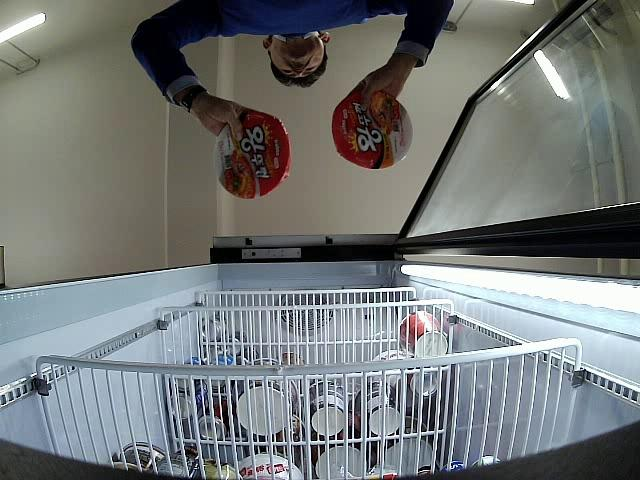00_hand: (194, 94, 250, 142), (355, 65, 412, 107)
10_wangTtukkeong: (212, 111, 291, 199), (333, 90, 413, 169)
